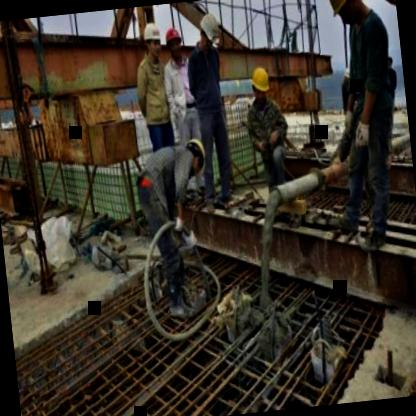helmet: (322, 0, 378, 30), (182, 135, 211, 178), (196, 11, 224, 54), (140, 18, 166, 64), (248, 64, 274, 105), (164, 24, 186, 60)
